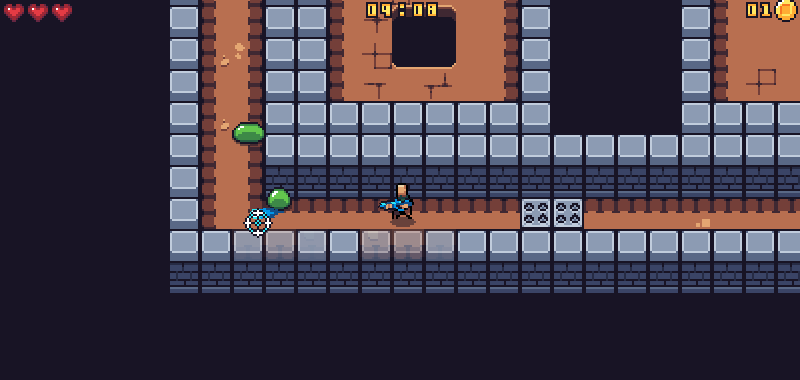enemy_slug: (230, 120, 266, 145), (262, 185, 292, 213)
trap_off: (520, 194, 584, 227)
